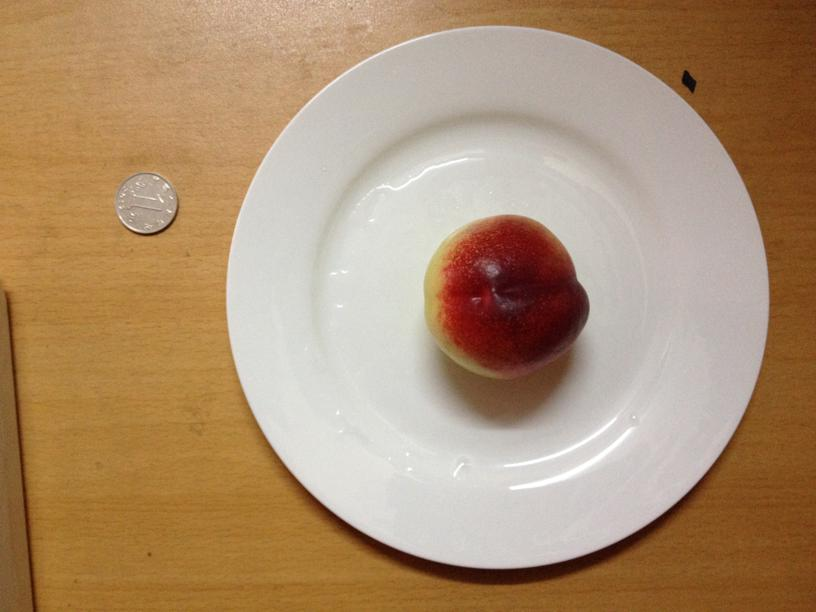coin: (109, 174, 180, 234)
peach: (417, 210, 591, 383)
